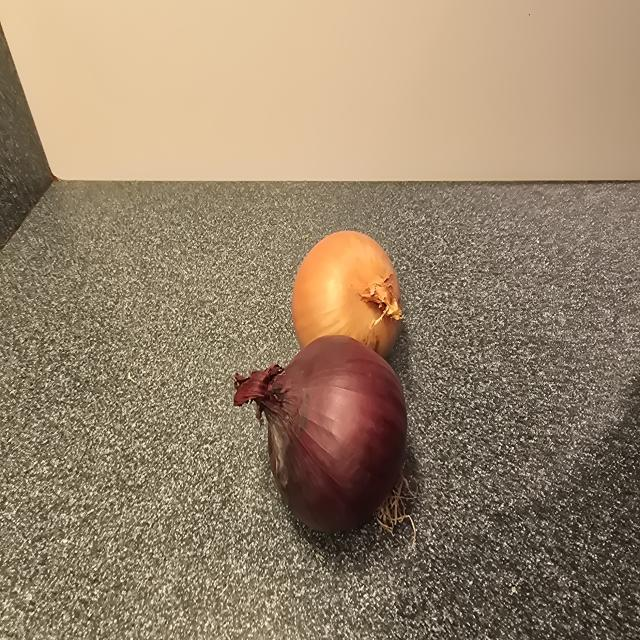Onion: (234, 336, 407, 532), (292, 231, 402, 357)
